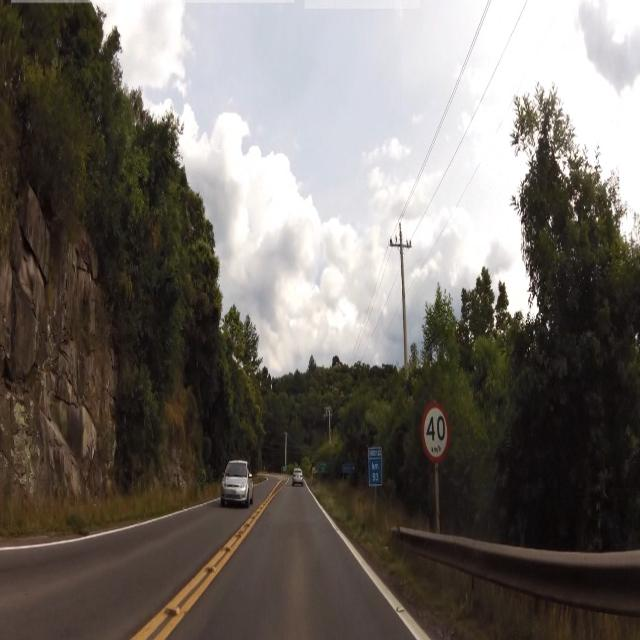R-19: (422, 401, 452, 464)
RQ: (370, 450, 383, 489)
